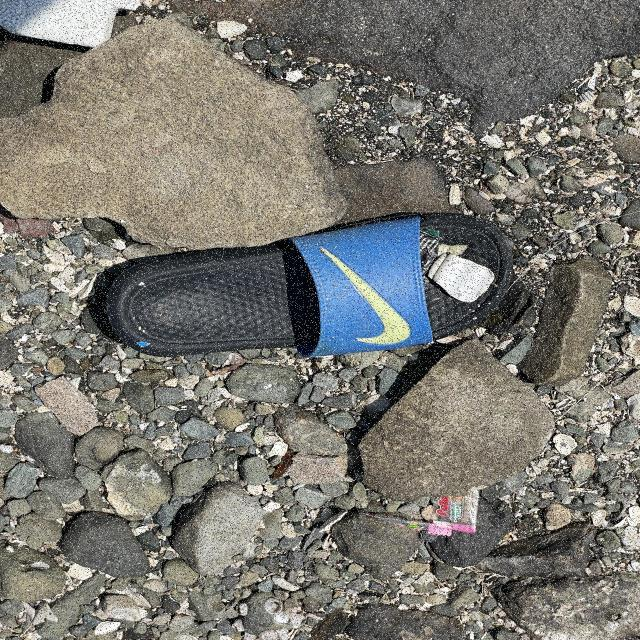plastic_waste: (423, 496, 477, 536)
rubber_waste: (103, 215, 517, 360)
styrofoam_waste: (4, 1, 137, 48)
